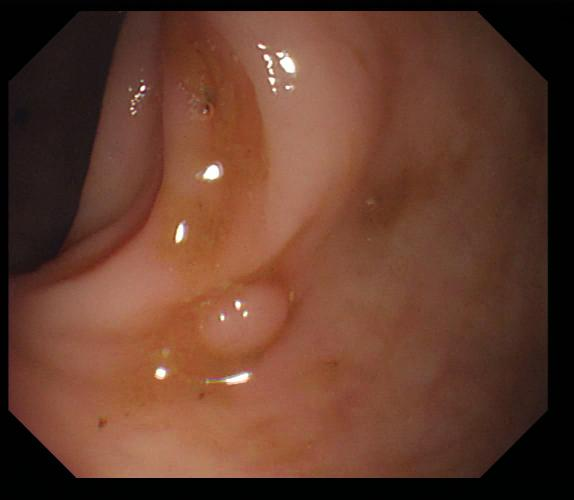polyp: (190, 277, 295, 377)
